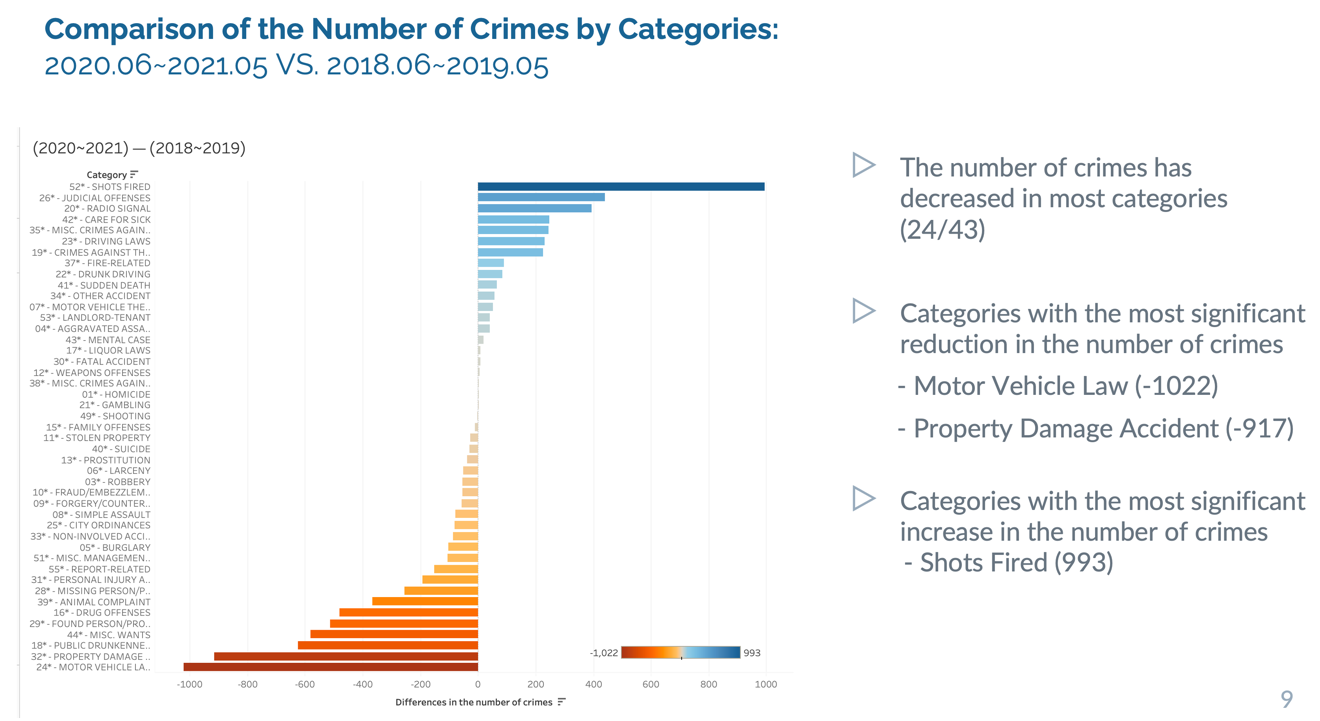

Layout of this report page (visuals, bound fields, positions):
{"tool":"tableau","page":{"name":"Dashboard 2","canvas":[1000,800],"ordinal":1},"visuals":[{"type":"worksheet","box":[0,0,1000,800]},{"type":"worksheet","param":"horz","box":[8,8,984,784]},{"type":"worksheet","box":[8,8,824,784]},{"type":"worksheet","title":"2018-2019 Crime","mark":"Automatic","rows":["Case_Number"],"cols":["Date"],"box":[8,8,824,392]},{"type":"worksheet","param":"vert","box":[832,8,160,784]},{"type":"worksheet","title":"Sheet 2","mark":"Automatic","param":"[federated.01vg11i1kdxzpe15m5s7c11l4ubx].[:Measure Names]","box":[832,8,160,66]},{"type":"worksheet","title":"Sheet 2","mark":"Automatic","box":[8,400,412,392]},{"type":"worksheet","title":"2020-2021 Crime","mark":"Automatic","rows":["Case_Number"],"cols":["Date"],"box":[420,400,412,392]}]}

Visuals, with their boxes on the page's 1000x800 design canvas (x1, y1, x2, y2). These are canvas units, not pixel positions in the 1320x721 screenshot, which may show the page scaled, cropped or inside an application window:
worksheet: bbox=[0, 0, 1000, 800]
worksheet: bbox=[8, 8, 992, 792]
worksheet: bbox=[8, 8, 832, 792]
"2018-2019 Crime" worksheet: bbox=[8, 8, 832, 400]
worksheet: bbox=[832, 8, 992, 792]
"Sheet 2" worksheet: bbox=[832, 8, 992, 74]
"Sheet 2" worksheet: bbox=[8, 400, 420, 792]
"2020-2021 Crime" worksheet: bbox=[420, 400, 832, 792]
